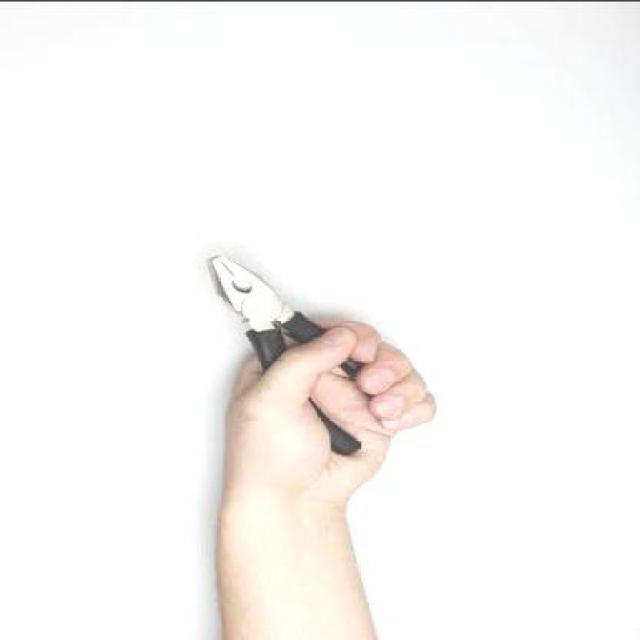pliers: (202, 246, 304, 332)
